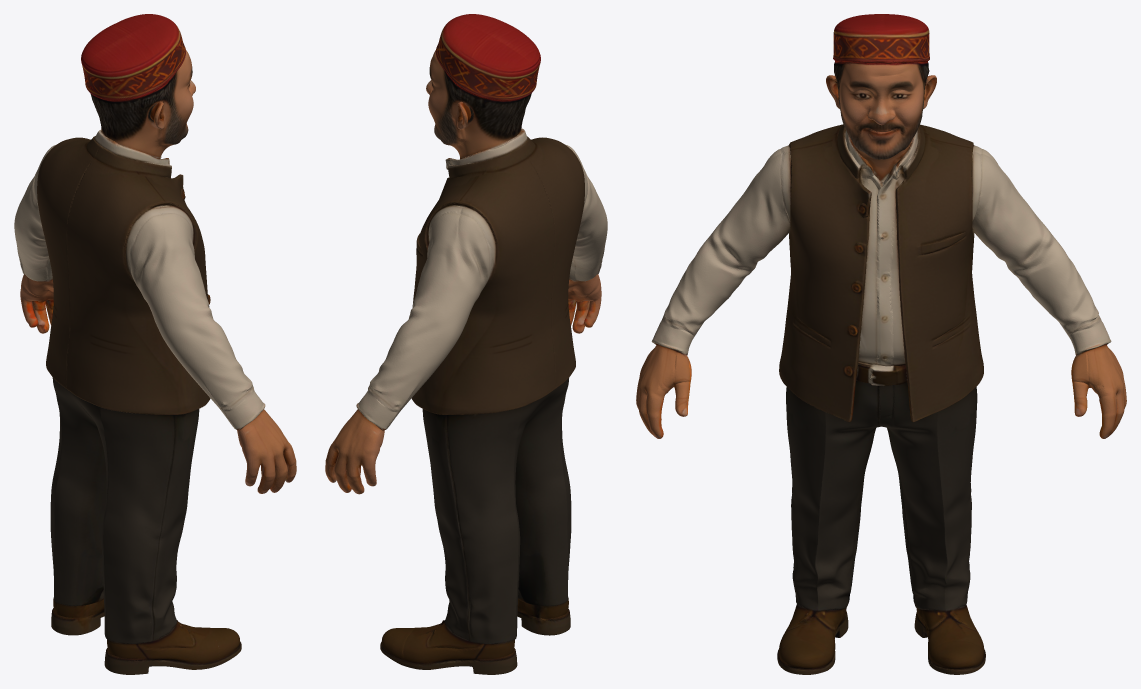
The model's file is Himachali.glb.
3 renders of one model, left to right at view 1: azimuth 30°, elevation 25°; view 2: azimuth 150°, elevation 25°; view 3: azimuth 270°, elevation 25°, orthographic. The views are drawn at different scales.
Parts seen in each view (by area): view 1: tripo_node_a3cd13c8-ba35-4f04-9f43-bafd10ff63a7; view 2: tripo_node_a3cd13c8-ba35-4f04-9f43-bafd10ff63a7; view 3: tripo_node_a3cd13c8-ba35-4f04-9f43-bafd10ff63a7.
Boxes of the visible parts, x1,y1,x2,y2 form: tripo_node_a3cd13c8-ba35-4f04-9f43-bafd10ff63a7: (14,14,296,674); tripo_node_a3cd13c8-ba35-4f04-9f43-bafd10ff63a7: (325,14,607,674); tripo_node_a3cd13c8-ba35-4f04-9f43-bafd10ff63a7: (636,14,1126,674).
Size of the model in its own units: 0.2323 by 1 by 0.7019.
Materials: 1 (1 with a texture image).
